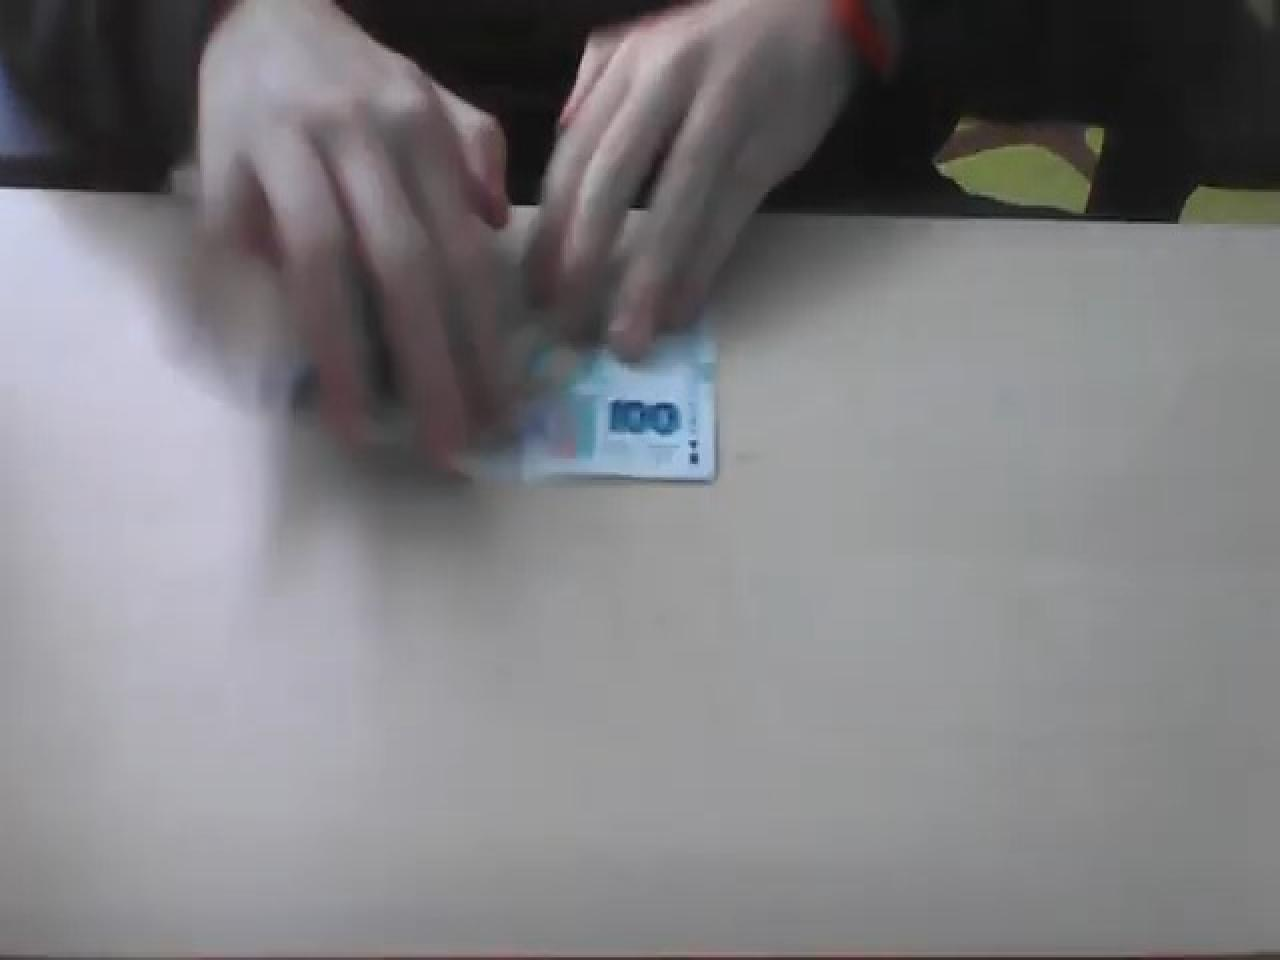100leva: (464, 310, 720, 488), (606, 394, 682, 438)
